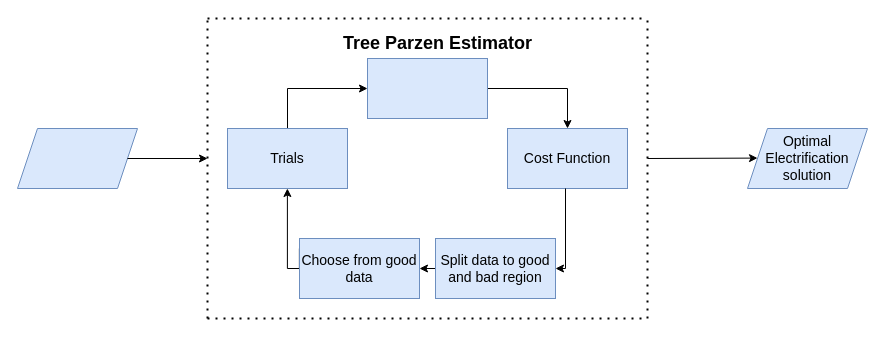
Some shapes in this 885 by 337 pixel diagram are drawn without their labels. The centre of each missing label's shape, as x and y in pixels:
"Dispatch Strategy" goes at [427,88].
"Unconnected Community Graph" goes at [77,158].
